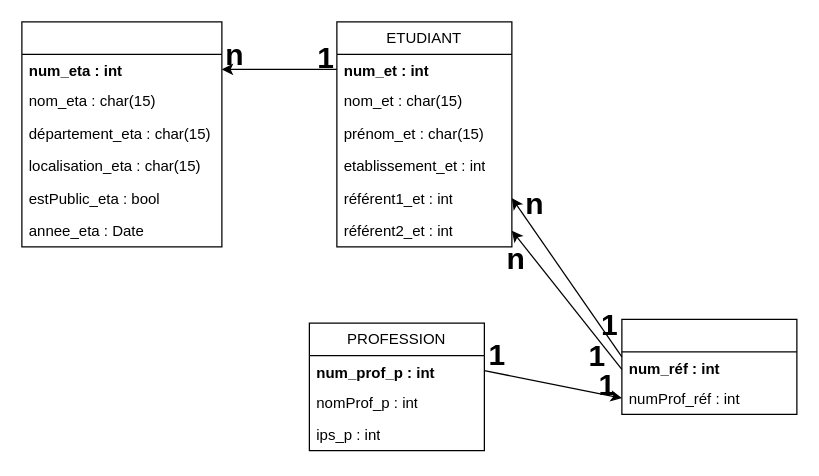
The diagram is 819 pixels wide and 476 high, and some of its shapes have lost their labels. Here are the shapes that lost their labels. From the top down, the box of each, then its label:
(21, 21, 222, 247): ETABLISSEMENT
(621, 318, 797, 414): REFERENT
